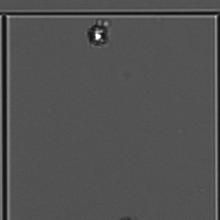Living Cell: (86, 20, 111, 48)
